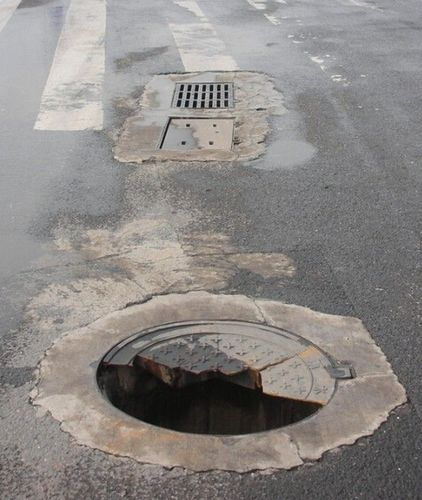broke: (39, 266, 395, 481)
